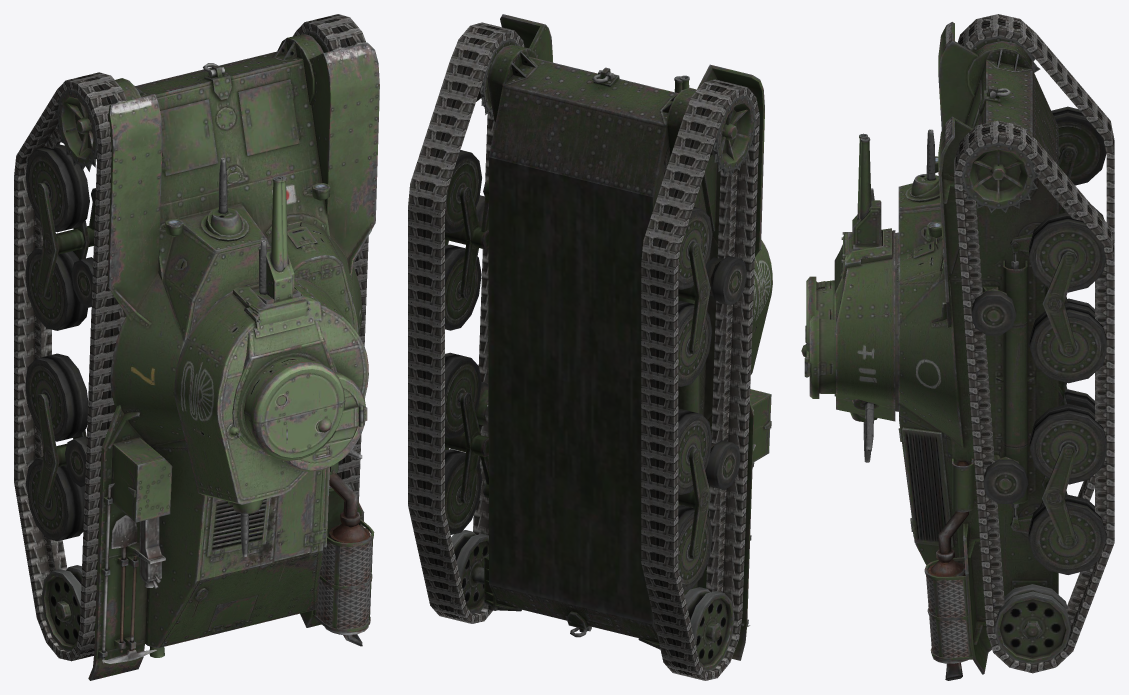
The picture shows the model from 3 angles, left to right: view 1: azimuth 30°, elevation 25°; view 2: azimuth 150°, elevation 25°; view 3: azimuth 270°, elevation 25°; orthographic projection. The views are drawn at different scales.
Visible parts, largest first — view 1: hull, chassis_track_L, turret_02, turret_01, chassis_wheel_L_05, chassis_wheel_L_02, Ha_Go_hull_grill.sc2, chassis_wheel_L_07, chassis_wheel_L_04, chassis_track_R, chassis_wheel_L_08, chassis_wheel_L_01 (+4 smaller); view 2: hull, chassis_track_L, chassis_track_R, chassis_wheel_L_08, chassis_wheel_L_01, chassis_wheel_R_05, chassis_wheel_R_08, chassis_wheel_R_04, chassis_wheel_R_07, chassis_wheel_L_05, chassis_wheel_L_04, chassis_wheel_R_02 (+6 smaller); view 3: hull, chassis_track_R, turret_02, chassis_track_L, chassis_wheel_R_08, chassis_wheel_R_05, chassis_wheel_R_04, chassis_wheel_R_07, chassis_wheel_R_02, chassis_wheel_R_01, turret_01, chassis_wheel_L_02 (+5 smaller).
Part boxes in pixels (x1,y1,x2,y2): hull: (36, 34, 379, 680); chassis_track_L: (14, 72, 127, 661); turret_02: (174, 278, 368, 556); turret_01: (215, 296, 362, 461); chassis_wheel_L_05: (25, 353, 87, 441); chassis_wheel_L_02: (25, 144, 89, 232); Ha_Go_hull_grill.sc2: (316, 540, 372, 628); chassis_wheel_L_07: (25, 457, 84, 541); chassis_wheel_L_04: (25, 246, 87, 330); chassis_track_R: (293, 14, 368, 501); chassis_wheel_L_08: (41, 565, 81, 651); chassis_wheel_L_01: (55, 89, 97, 171); hull: (445, 14, 771, 660); chassis_track_L: (641, 79, 759, 680); chassis_track_R: (408, 22, 524, 623); chassis_wheel_L_08: (685, 587, 734, 671); chassis_wheel_L_01: (709, 95, 755, 176); chassis_wheel_R_05: (445, 352, 481, 438); chassis_wheel_R_08: (451, 530, 488, 613); chassis_wheel_R_04: (445, 244, 481, 330); chassis_wheel_R_07: (445, 449, 482, 534); chassis_wheel_L_05: (678, 409, 712, 494); chassis_wheel_L_04: (678, 300, 711, 386); chassis_wheel_R_02: (445, 150, 481, 233); hull: (896, 22, 1076, 680); chassis_track_R: (954, 120, 1114, 673); turret_02: (801, 228, 895, 462); chassis_track_L: (957, 14, 1114, 501); chassis_wheel_R_08: (994, 584, 1070, 664); chassis_wheel_R_05: (1029, 404, 1106, 484); chassis_wheel_R_04: (1029, 302, 1106, 383); chassis_wheel_R_07: (1028, 494, 1106, 574); chassis_wheel_R_02: (1029, 212, 1106, 292); chassis_wheel_R_01: (962, 142, 1040, 212); turret_01: (806, 232, 898, 451); chassis_wheel_L_02: (1051, 106, 1106, 185).
Bounding box in the file's own units: 2.09 × 4.35 × 2.24.
3 materials, 3 textured.
